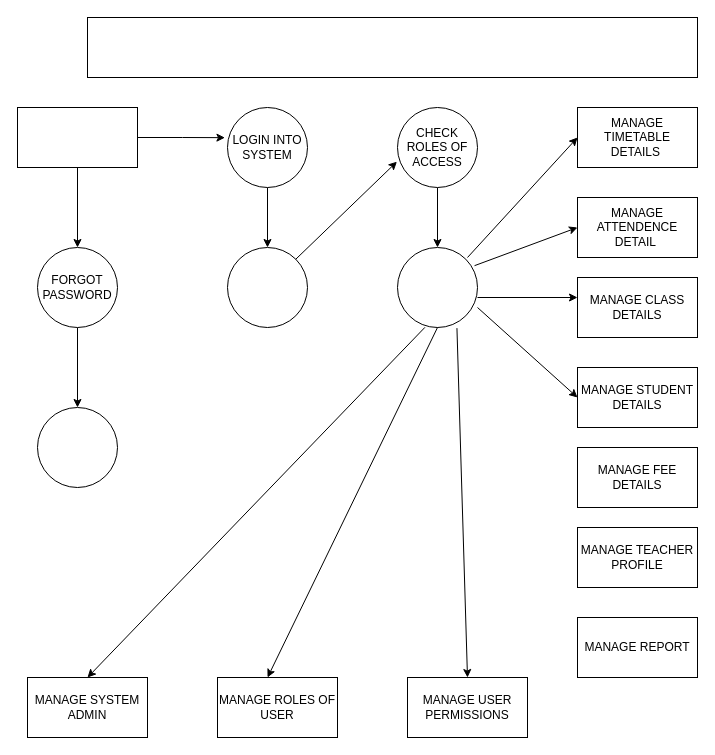
Some shapes in this 715 by 755 pixel diagram are drawn without their labels. The shapes that lost their labels are listed below. From the top down, each one's centre as x and y in pixels, then its label:
At point (392, 47): "STUDENT INFORMATION SYSTEM".
At point (77, 137): "ADMIN".
At point (267, 287): "CHECK CREDNTIALS".
At point (437, 287): "MANAGE MODULES".
At point (77, 447): "SEND EMAIL TO USER".
